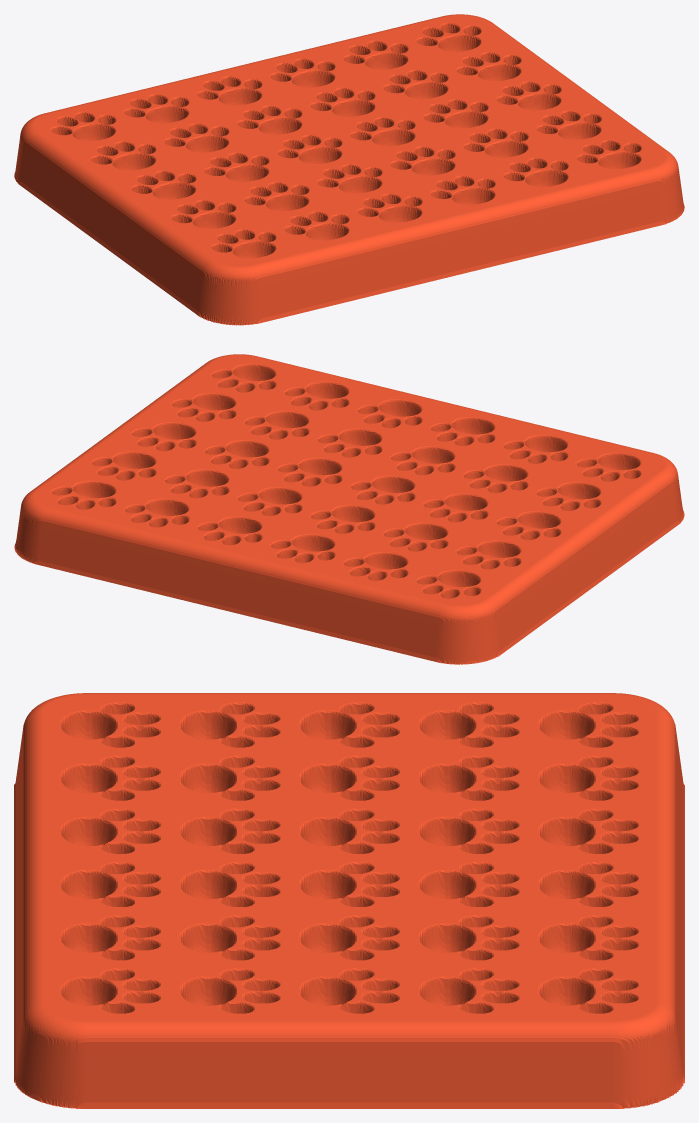
Rendered from mold.glb.
3 renders of one model, top to bottom at view 1: azimuth 30°, elevation 25°; view 2: azimuth 150°, elevation 25°; view 3: azimuth 270°, elevation 25°, orthographic. The views are drawn at different scales.
Visible parts, largest first — view 1: geometry_0; view 2: geometry_0; view 3: geometry_0.
Boxes of the visible parts, <box> form: geometry_0: <box>14,14,684,325</box>; geometry_0: <box>14,354,684,664</box>; geometry_0: <box>14,693,684,1108</box>.
Bounding box in the file's own units: 0.104 × 0.0105 × 0.0842.
